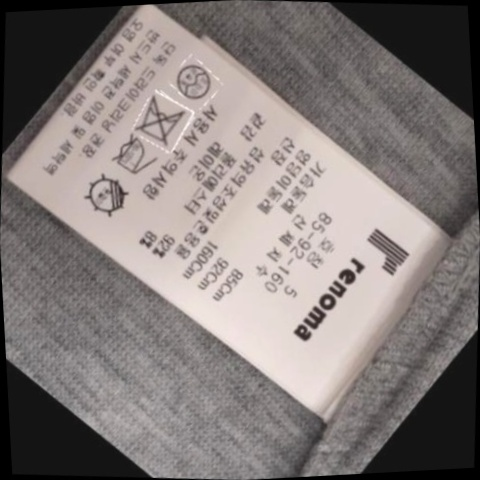DN_wash: (133, 94, 193, 147)
dry_clean_petrol_only: (172, 57, 219, 103)
iron_low: (107, 133, 160, 181)
line_dry_in_shade: (81, 171, 139, 221)
